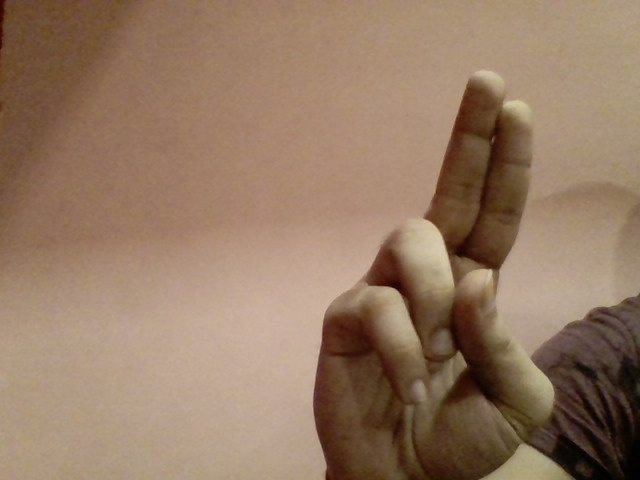u: (300, 64, 561, 474)
